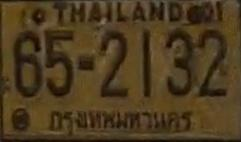1: (141, 30, 151, 98)
2: (196, 28, 226, 96), (98, 30, 126, 96)
3: (164, 28, 192, 96)
5: (44, 29, 74, 97)
6: (12, 30, 42, 96)
BKK: (47, 104, 196, 137)
